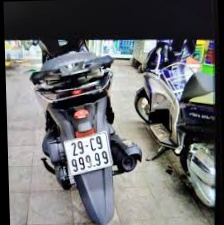Bien-so: (55, 126, 111, 175)
